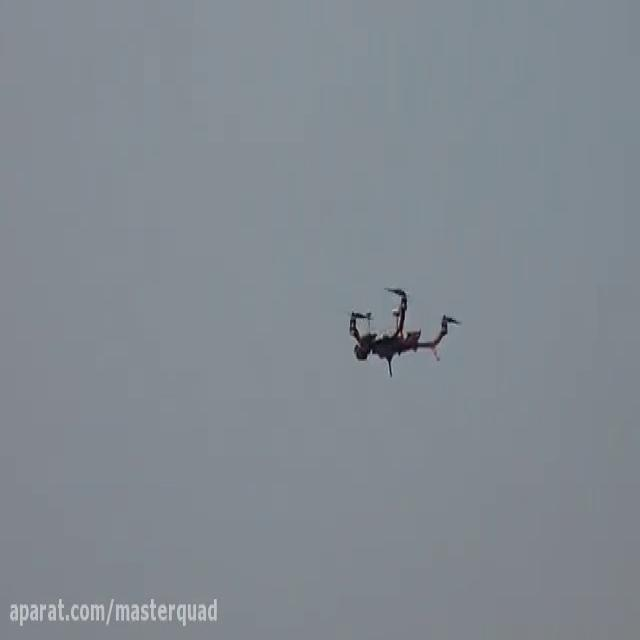drone: (342, 278, 464, 380)
